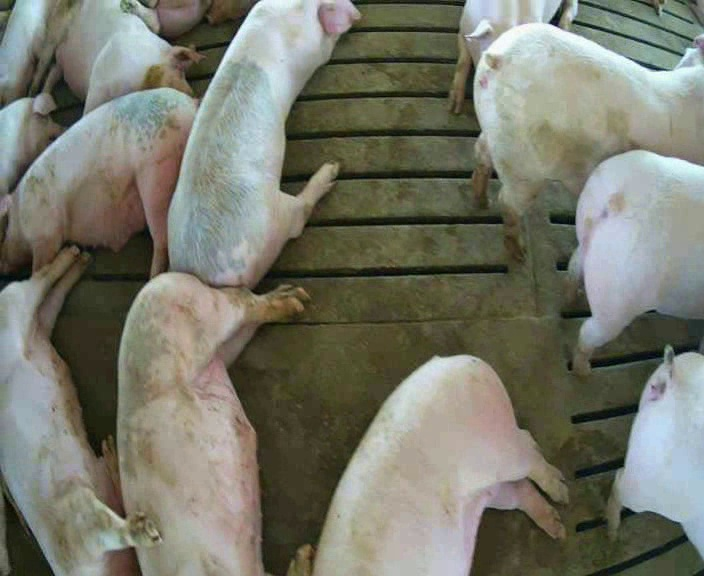pig: (314, 355, 567, 574), (168, 2, 358, 287), (473, 24, 703, 256), (0, 246, 158, 573), (0, 88, 195, 275), (572, 150, 703, 374), (607, 347, 703, 558), (27, 2, 200, 112), (449, 0, 577, 113), (0, 93, 62, 196), (0, 2, 50, 105)
